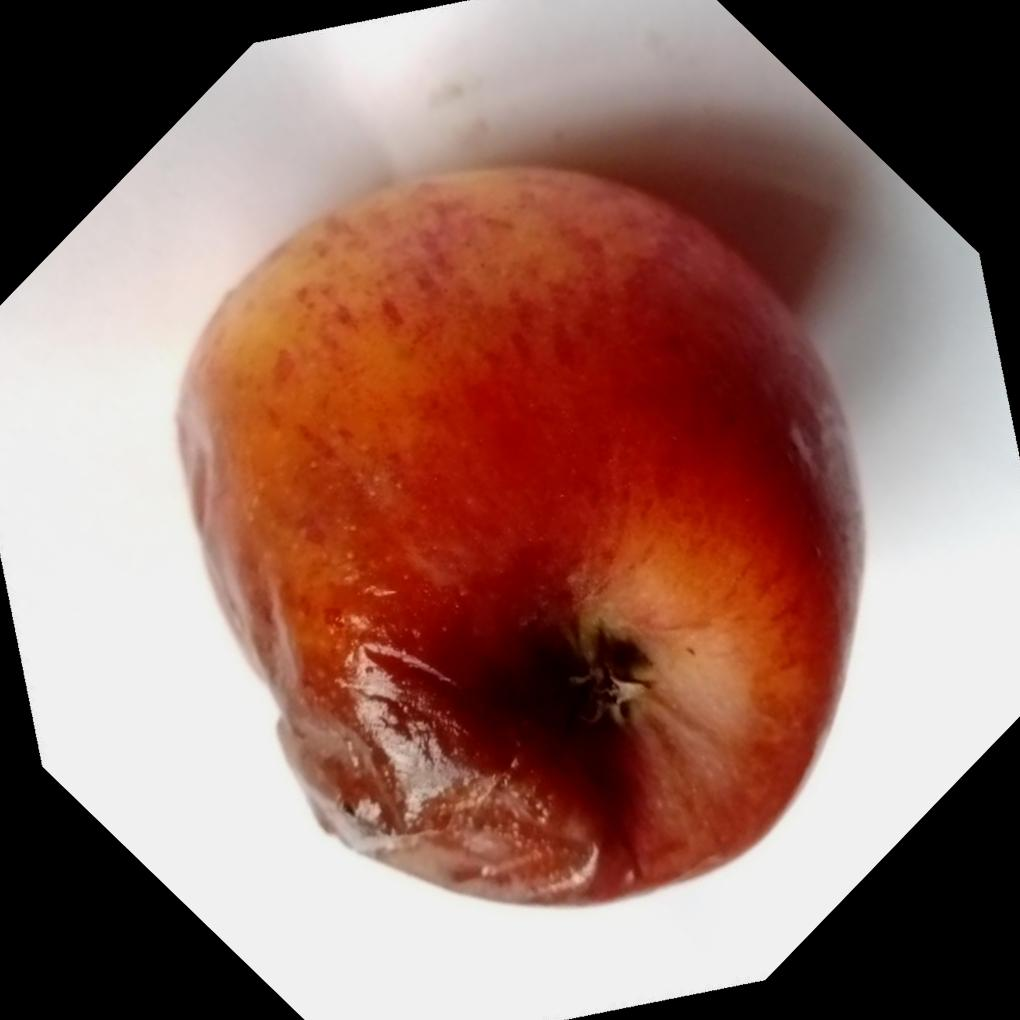FreshOrange: (171, 158, 865, 908)
